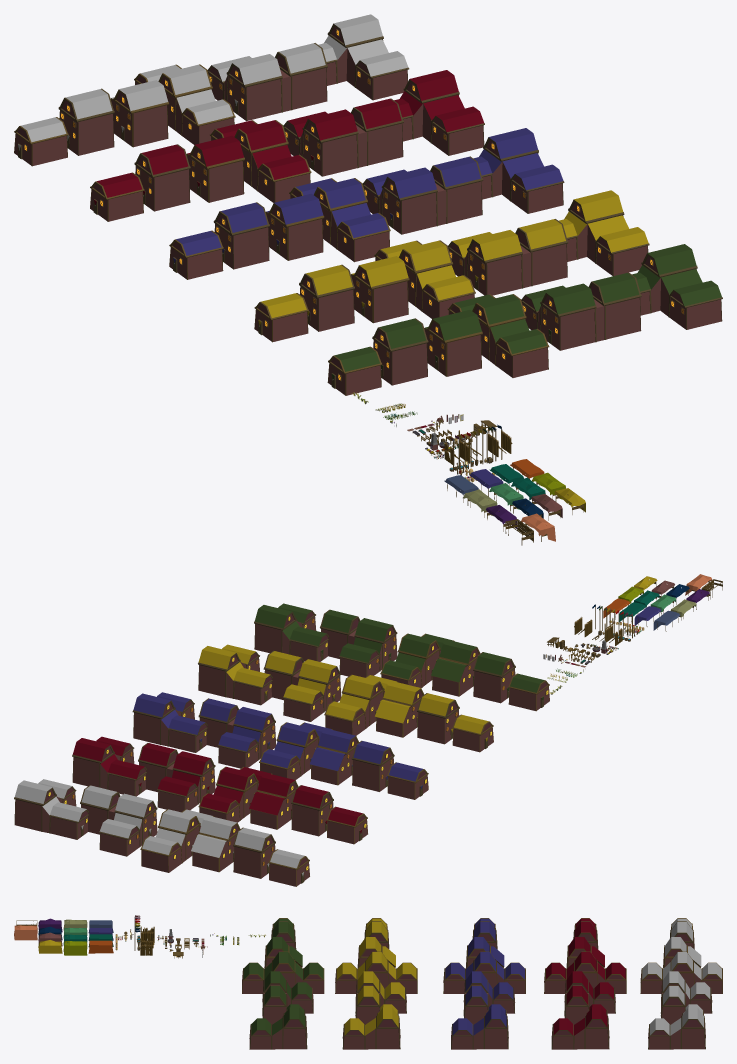
The model's file is EmbersStorm-Free Props Pack.fbx.
3 views of the same model, one above another, from view 1: azimuth 30°, elevation 25°; view 2: azimuth 150°, elevation 25°; view 3: azimuth 270°, elevation 25° (orthographic). The views are drawn at different scales.
Visible parts, largest first — view 1: house.031, house.217, house.312, house.372, house.070, house.029, house.216, house.309, house.371, house.053, house.030, house.215 (+18 smaller); view 2: house.070, house.217, house.372, house.312, house.031, house.216, house.053, house.371, house.309, house.029, house.370, house.052 (+18 smaller); view 3: house.309, house.029, house.053, house.216, house.371, house.030, house.308, house.370, house.052, house.215, house.031, house.070 (+17 smaller).
Part boxes in pixels (x1,y1,x2,y2): house.031: (521, 272, 641, 350); house.217: (362, 156, 483, 234); house.312: (283, 98, 403, 176); house.372: (207, 43, 327, 121); house.070: (448, 219, 568, 295); house.029: (632, 244, 722, 329); house.216: (473, 128, 564, 213); house.309: (394, 70, 484, 155); house.371: (318, 14, 409, 100); house.053: (558, 190, 649, 276); house.030: (447, 294, 549, 377); house.215: (289, 178, 390, 262); house.070: (263, 650, 341, 721); house.217: (198, 698, 275, 768); house.372: (80, 785, 157, 856); house.312: (138, 743, 215, 812); house.031: (320, 609, 397, 677); house.216: (132, 692, 207, 752); house.053: (198, 644, 272, 705); house.371: (14, 779, 88, 839); house.309: (72, 736, 146, 796); house.029: (254, 603, 328, 661); house.370: (140, 809, 214, 872); house.052: (324, 674, 398, 735); house.309: (551, 1004, 609, 1049); house.029: (249, 1004, 307, 1049); house.053: (342, 1004, 400, 1049); house.216: (451, 1004, 508, 1049); house.371: (648, 1004, 705, 1049); house.030: (242, 951, 324, 993); house.308: (544, 951, 626, 993); house.370: (640, 951, 722, 993); house.052: (335, 951, 417, 993); house.215: (443, 951, 525, 993); house.031: (262, 971, 313, 1024); house.070: (355, 971, 406, 1024).
Size of the model in its own units: 9.85 by 1.18 by 24.48.
